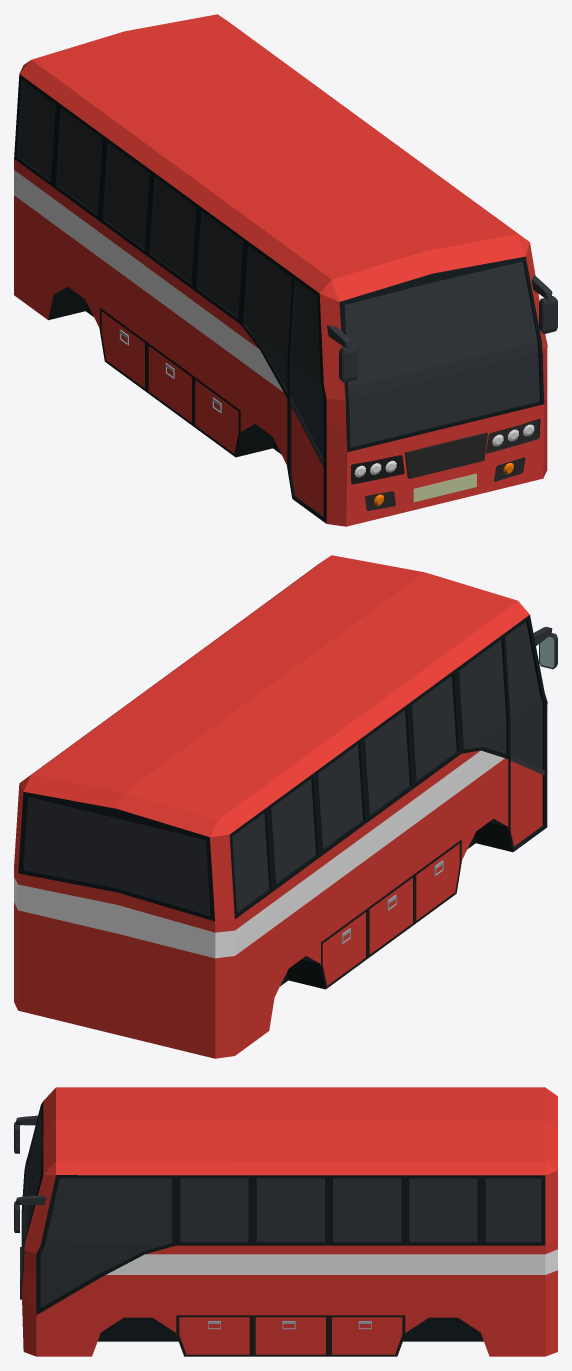
Rendered from Bus_01.fbx.
3 renders of one model, top to bottom at view 1: azimuth 30°, elevation 25°; view 2: azimuth 150°, elevation 25°; view 3: azimuth 270°, elevation 25°, orthographic. The views are drawn at different scales.
Parts seen in each view (by area): view 1: Bus_01; view 2: Bus_01; view 3: Bus_01.
Part boxes in pixels (box(x1,y1,x2,y2)): Bus_01: box(14, 14, 557, 526); Bus_01: box(14, 555, 557, 1058); Bus_01: box(14, 1087, 557, 1356).
Bounding box in the file's own units: 236 × 239 × 611.
